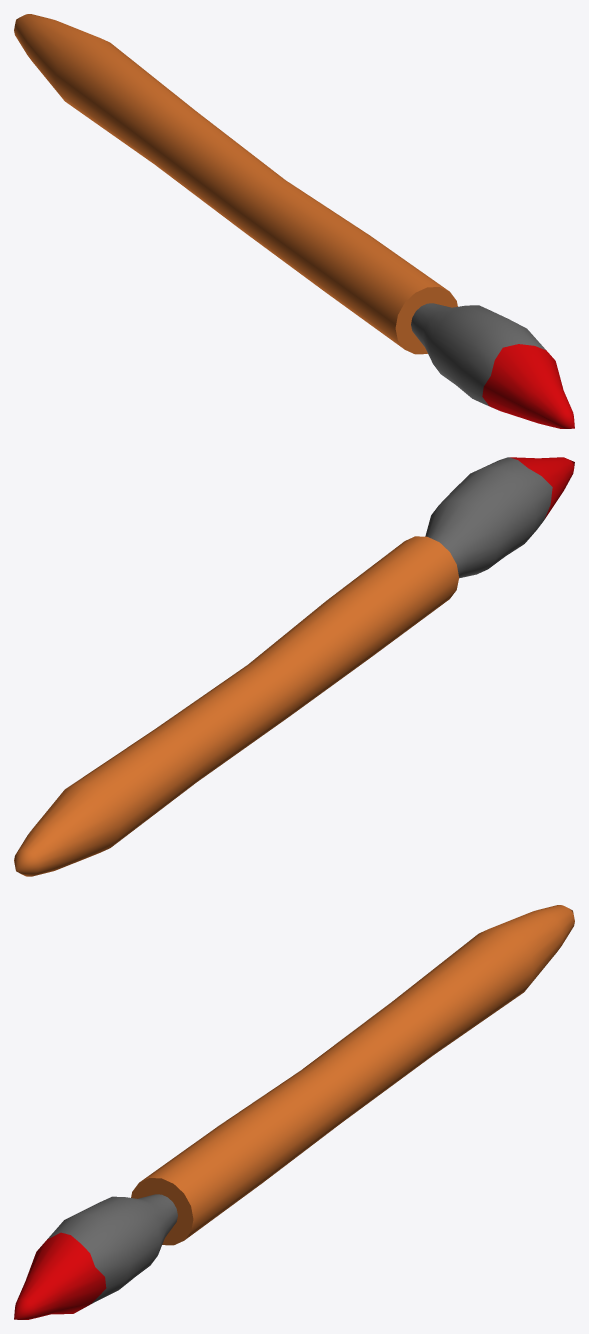
File: PaintBrush.fbx
3 views of the same model, one above another, from view 1: azimuth 30°, elevation 25°; view 2: azimuth 150°, elevation 25°; view 3: azimuth 330°, elevation 25° (orthographic).
Visible parts, largest first — view 1: Circle; view 2: Circle; view 3: Circle.
Part boxes in pixels (left/top/right/bottom): Circle: left=14, top=14, right=574, bottom=428; Circle: left=14, top=457, right=574, bottom=876; Circle: left=14, top=905, right=574, bottom=1319.
Size of the model in its own units: 5.55 by 5.71 by 69.74.
